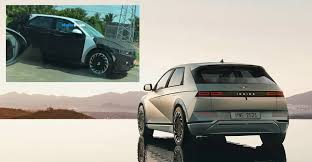Honda Ioniq: (135, 53, 296, 152)
